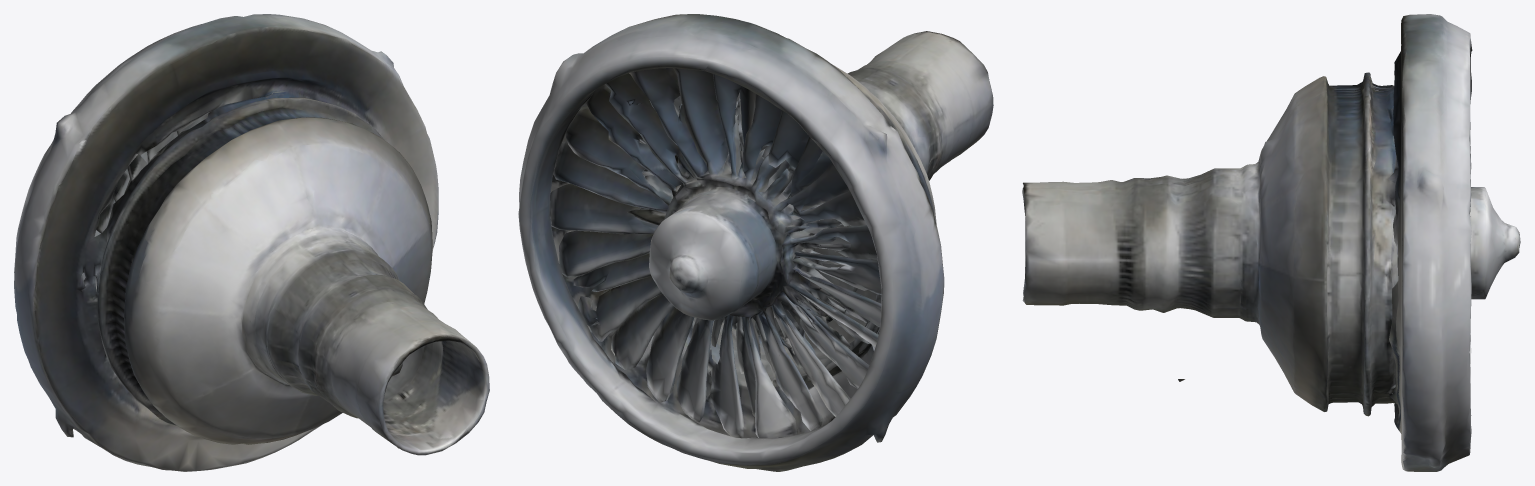
Rendered from refined_turbine.glb.
3 renders of one model, left to right at view 1: azimuth 30°, elevation 25°; view 2: azimuth 150°, elevation 25°; view 3: azimuth 270°, elevation 25°, orthographic. The views are drawn at different scales.
Bounding box in the file's own units: 1.85 × 1.88 × 2.04.
1 material, 1 textured.
